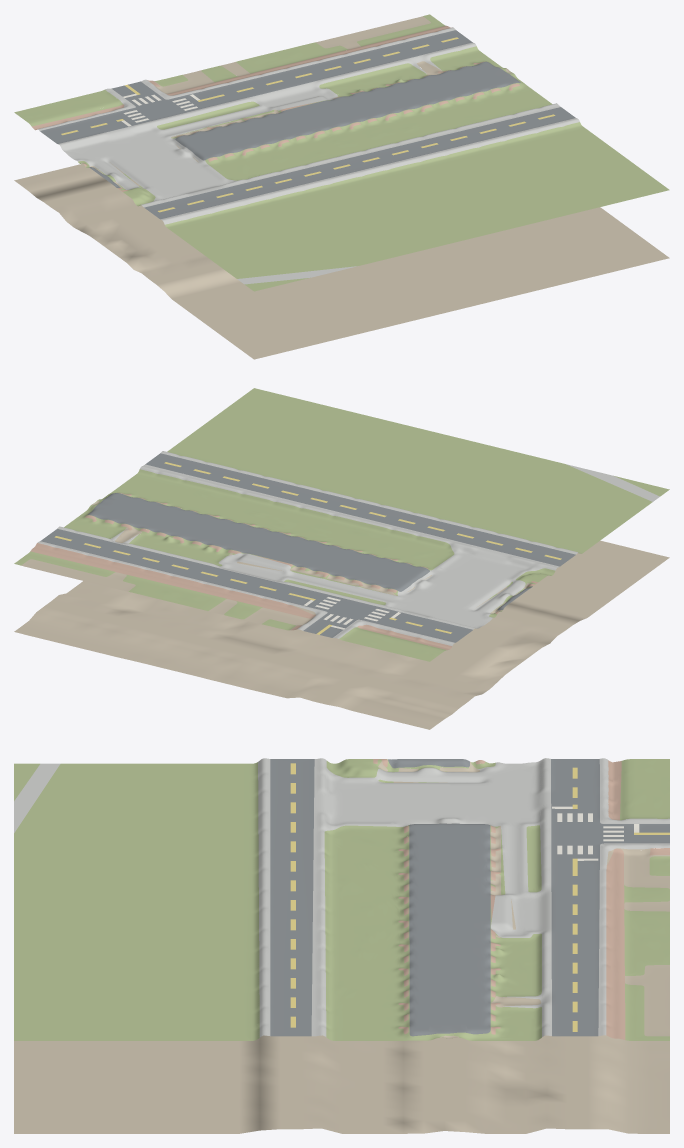
3 views of the same model, one above another, from view 1: azimuth 30°, elevation 25°; view 2: azimuth 150°, elevation 25°; view 3: azimuth 270°, elevation 25° (orthographic). The views are drawn at different scales.
Parts seen in each view (by area): view 1: s_-5_5__grass, s_-5_5__soil, s_-5_5__asphalt, s_-5_5__stone_paving, s_-5_5__brick_paving, s_-5_5__yellow_marking; view 2: s_-5_5__grass, s_-5_5__soil, s_-5_5__asphalt, s_-5_5__stone_paving, s_-5_5__brick_paving, s_-5_5__yellow_marking; view 3: s_-5_5__grass, s_-5_5__soil, s_-5_5__asphalt, s_-5_5__stone_paving, s_-5_5__brick_paving, s_-5_5__yellow_marking, s_-5_5__white_marking.
Part boxes in pixels (left/top/right/bottom): s_-5_5__grass: left=14, top=14, right=669, bottom=291; s_-5_5__soil: left=14, top=16, right=669, bottom=359; s_-5_5__asphalt: left=40, top=30, right=575, bottom=219; s_-5_5__stone_paving: left=38, top=27, right=579, bottom=284; s_-5_5__brick_paving: left=32, top=25, right=519, bottom=191; s_-5_5__yellow_marking: left=61, top=37, right=555, bottom=212; s_-5_5__grass: left=14, top=388, right=669, bottom=661; s_-5_5__soil: left=14, top=500, right=669, bottom=729; s_-5_5__asphalt: left=40, top=453, right=575, bottom=642; s_-5_5__stone_paving: left=37, top=451, right=659, bottom=645; s_-5_5__brick_paving: left=30, top=492, right=537, bottom=649; s_-5_5__yellow_marking: left=54, top=462, right=561, bottom=634; s_-5_5__grass: left=14, top=759, right=669, bottom=1040; s_-5_5__soil: left=14, top=761, right=669, bottom=1133; s_-5_5__asphalt: left=270, top=759, right=669, bottom=1036; s_-5_5__stone_paving: left=14, top=758, right=669, bottom=1037; s_-5_5__brick_paving: left=373, top=759, right=669, bottom=1039; s_-5_5__yellow_marking: left=290, top=763, right=669, bottom=1031; s_-5_5__white_marking: left=552, top=806, right=639, bottom=860.
Size of the model in its own units: 128 by 21.74 by 128.
